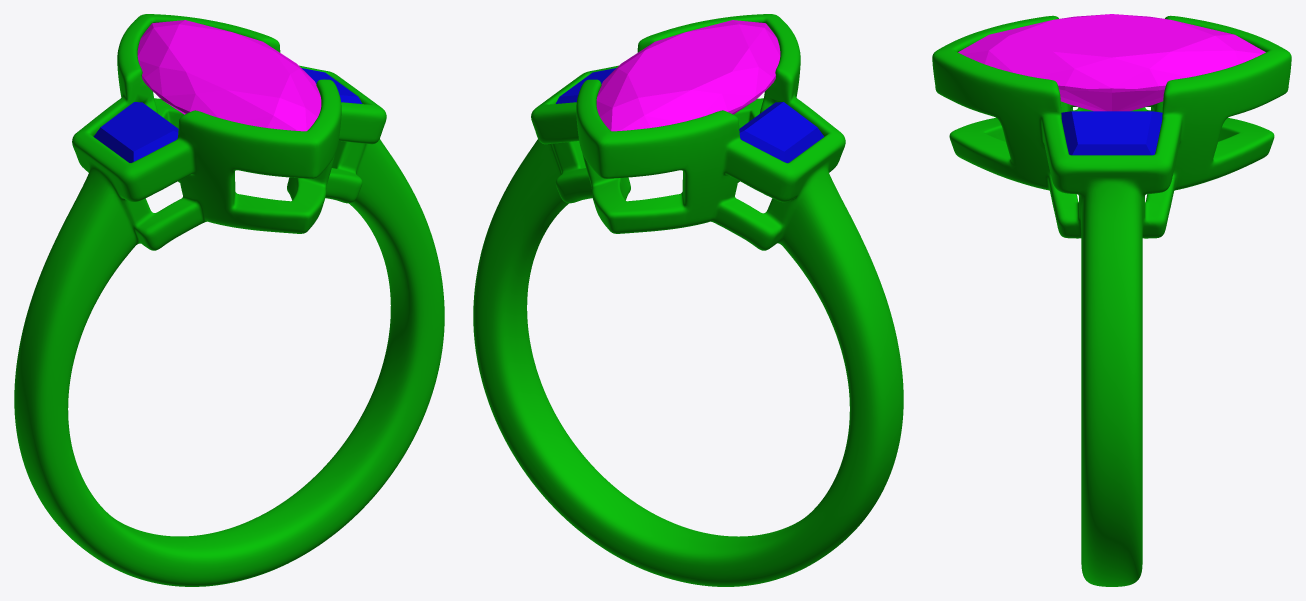
The model's file is BE1D5916_MQ_200ct_RENDER.glb.
3 views of the same model, side by side, from view 1: azimuth 30°, elevation 25°; view 2: azimuth 150°, elevation 25°; view 3: azimuth 270°, elevation 25° (orthographic). The views are drawn at different scales.
Visible parts, largest first — view 1: Metal 01, CS_Diamond_Marquise, Diamond_Baguette_side.001; view 2: Metal 01, CS_Diamond_Marquise, Diamond_Baguette_side.001; view 3: Metal 01, CS_Diamond_Marquise, Diamond_Baguette_side.
Part boxes in pixels (x1,y1,x2,y2): Metal 01: [14, 14, 444, 586]; CS_Diamond_Marquise: [137, 20, 321, 131]; Diamond_Baguette_side.001: [93, 102, 178, 162]; Metal 01: [473, 14, 903, 586]; CS_Diamond_Marquise: [596, 20, 780, 131]; Diamond_Baguette_side.001: [739, 102, 824, 163]; Metal 01: [932, 15, 1291, 586]; CS_Diamond_Marquise: [958, 14, 1265, 111]; Diamond_Baguette_side: [1061, 111, 1162, 155].
Size of the model in its own units: 20.12 by 23.88 by 14.73.
